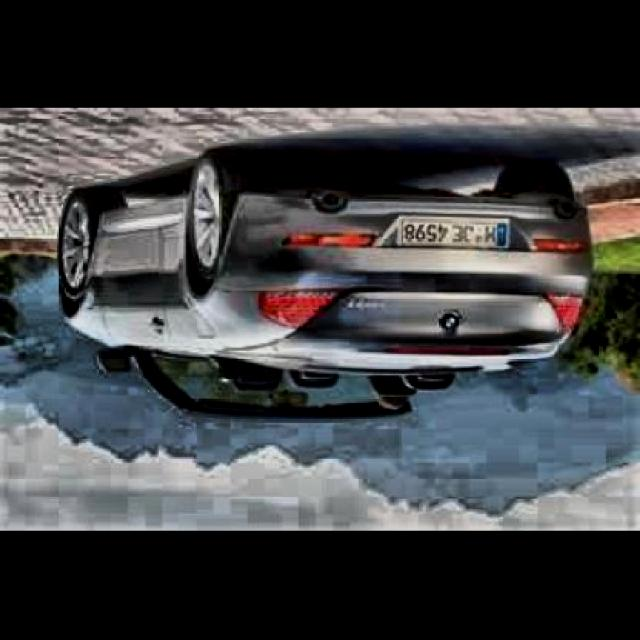black: (8, 96, 594, 423)
